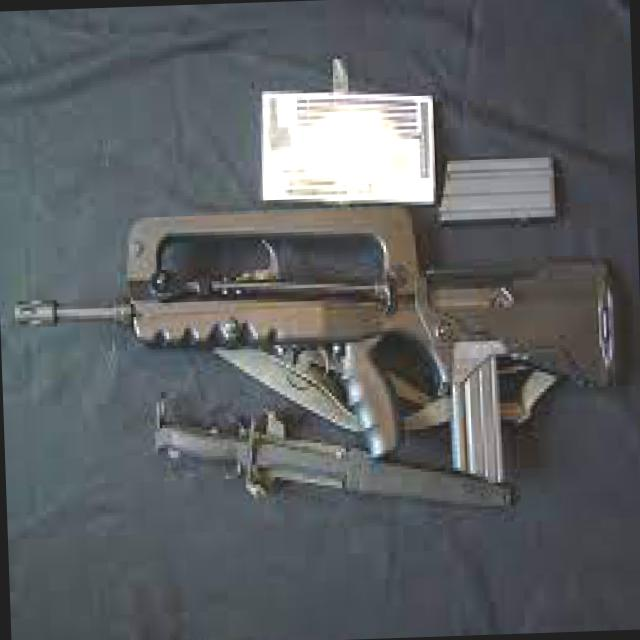long weapon: (3, 201, 630, 517)
